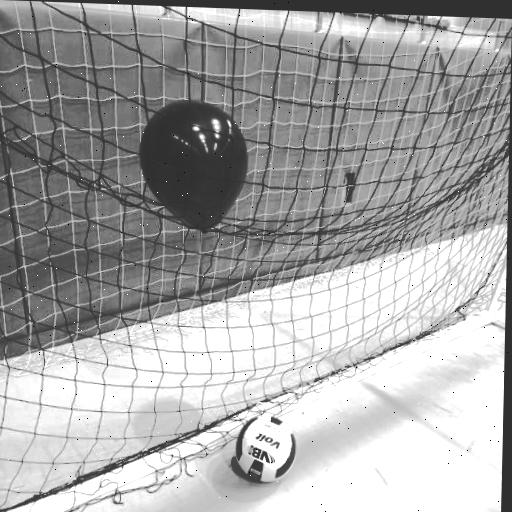balloon: (136, 98, 249, 231)
